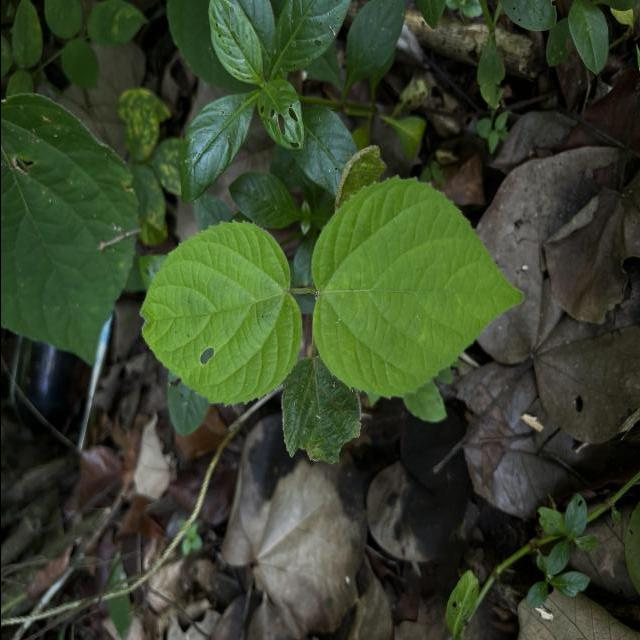Clerodendrum infortunatum: (308, 173, 524, 401), (136, 218, 302, 410)
